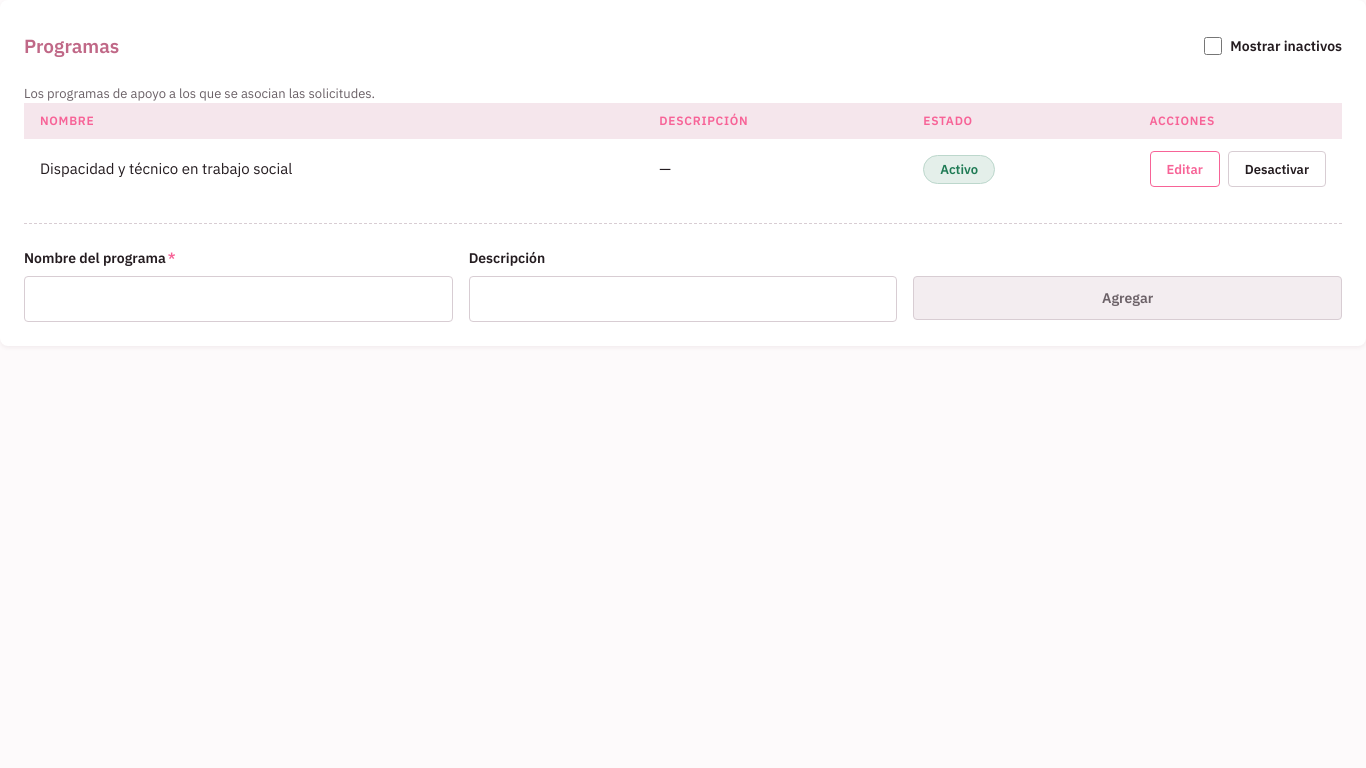
editar un registro del catálogo › avisa que el cambio se verá en lo ya registrado
The image size is (1366, 768).
Click the button "Editar" at [1185, 169], box [1150,151,1220,187]
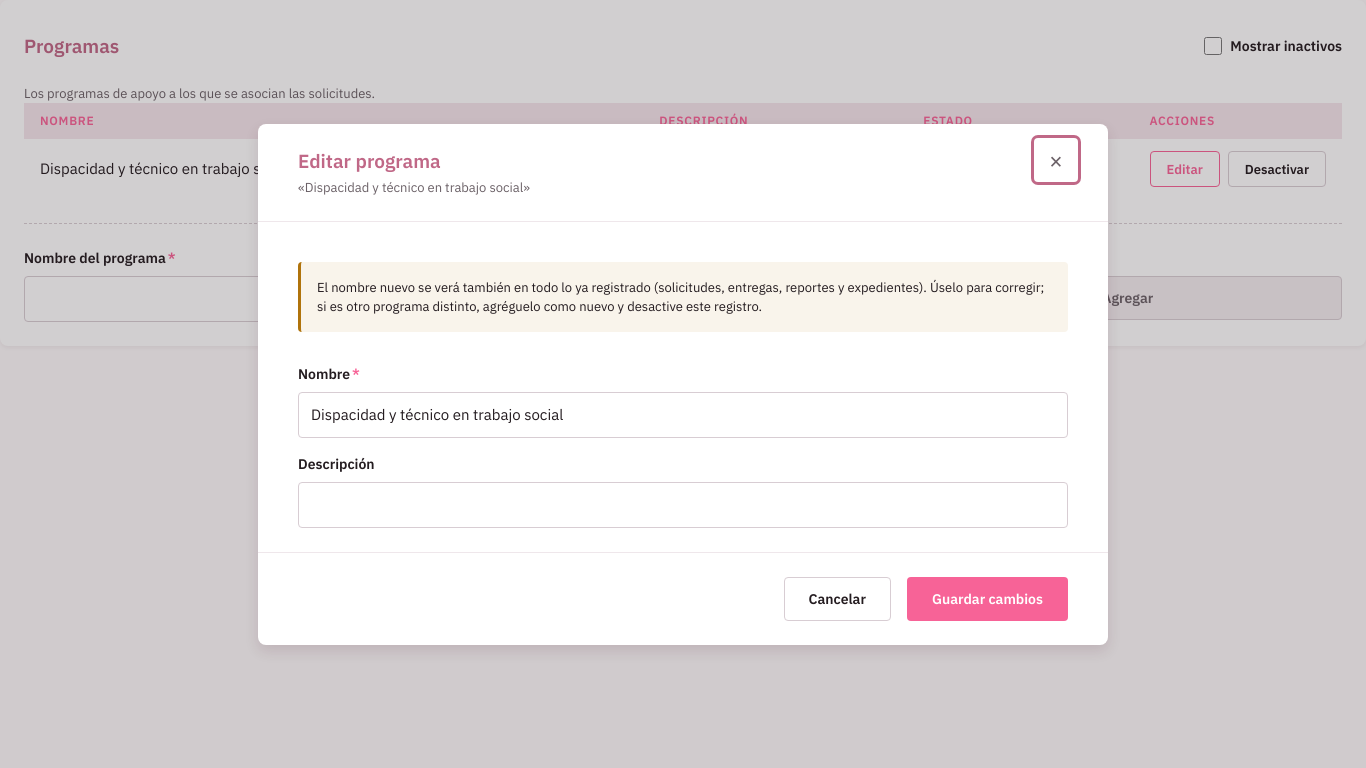
Result: the dialog shows "Úselo para corregir; si es otro programa distinto, agréguelo como nuevo" at [317,278,1044,314]
